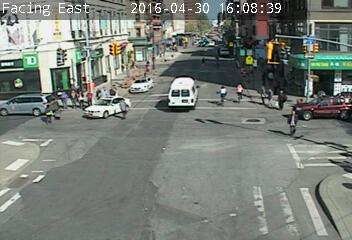neg: (9, 139, 36, 176), (99, 39, 122, 70), (127, 29, 150, 59), (9, 46, 32, 76), (45, 129, 67, 159), (171, 117, 193, 145), (174, 49, 194, 76), (320, 26, 340, 53), (42, 40, 60, 64), (203, 32, 221, 56), (258, 21, 275, 43), (67, 56, 83, 78), (305, 34, 321, 56), (268, 39, 284, 60), (157, 85, 172, 105), (329, 99, 343, 117), (156, 50, 169, 68), (223, 116, 236, 133), (225, 22, 238, 39), (332, 78, 344, 94), (190, 25, 202, 40), (99, 20, 108, 32)
pos: (281, 107, 304, 137), (227, 77, 247, 103), (116, 95, 134, 119), (214, 82, 231, 105), (82, 86, 99, 108), (272, 86, 288, 108), (38, 102, 54, 124), (251, 84, 267, 105), (50, 88, 66, 109), (63, 86, 77, 105)
